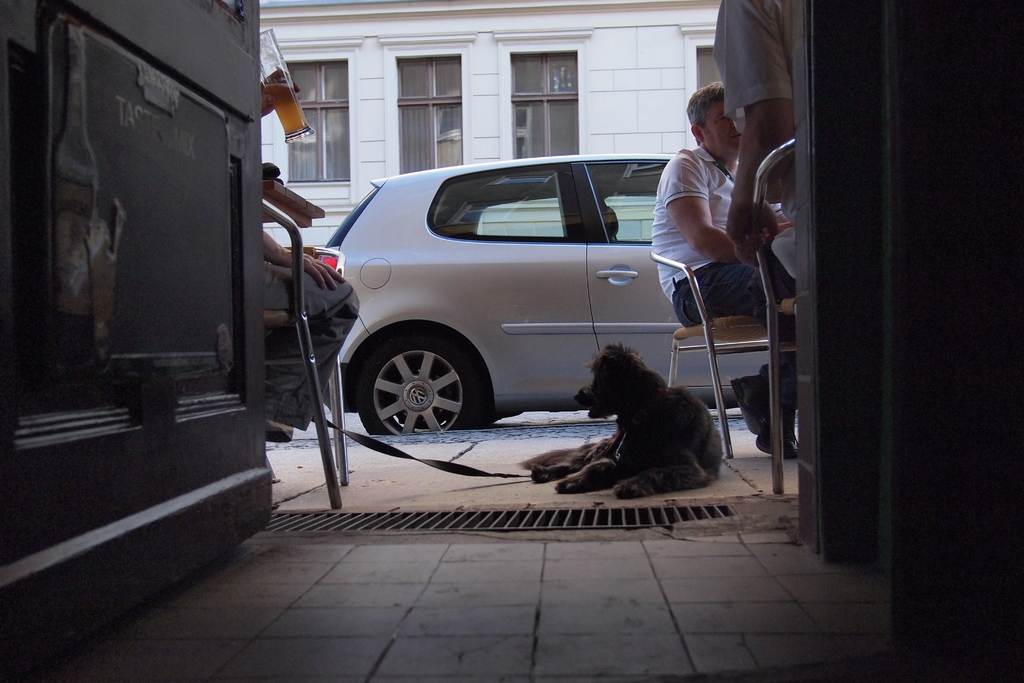Car: (325, 151, 771, 427)
